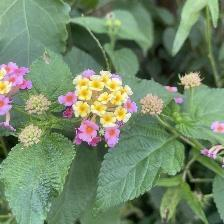common lanthana: (64, 69, 139, 154)
